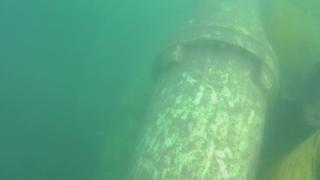pipe: (122, 1, 281, 179), (96, 61, 154, 179), (267, 1, 320, 69), (259, 128, 320, 179)
